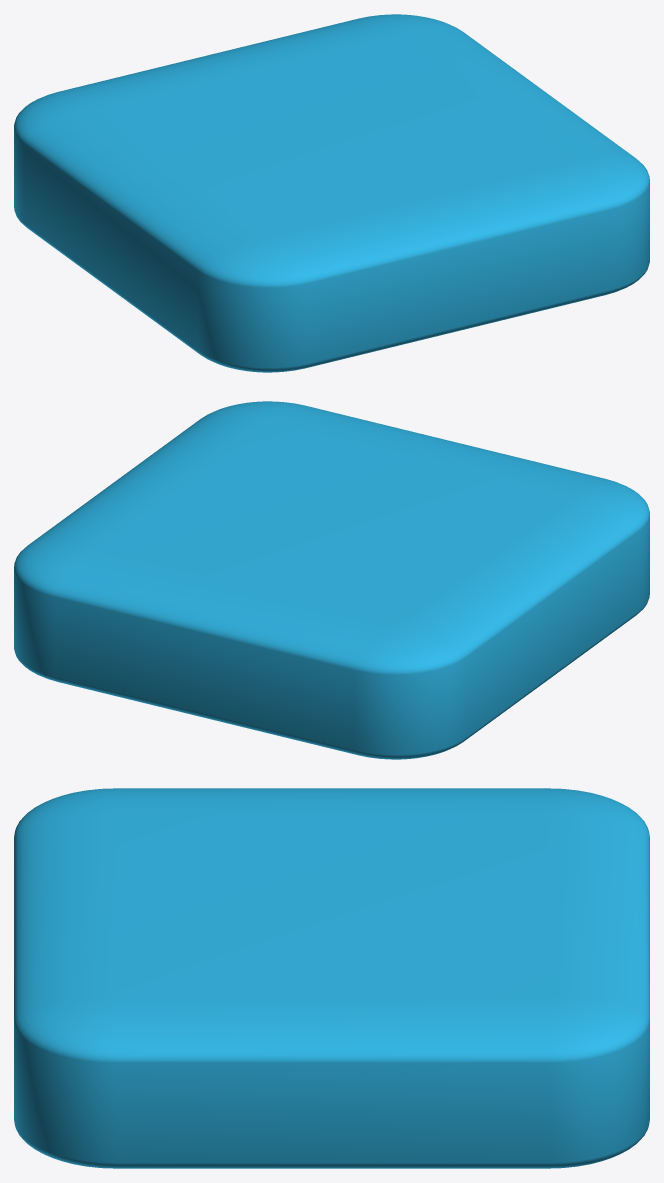
File: block.glb
3 views of the same model, one above another, from view 1: azimuth 30°, elevation 25°; view 2: azimuth 150°, elevation 25°; view 3: azimuth 270°, elevation 25° (orthographic). The views are drawn at different scales.
Visible parts, largest first — view 1: block; view 2: block; view 3: block.
Part boxes in pixels (x1,y1,x2,y2): block: (14,14,649,372); block: (14,401,649,759); block: (14,788,649,1168).
Size of the model in its own units: 2.42 by 0.616 by 2.42.
